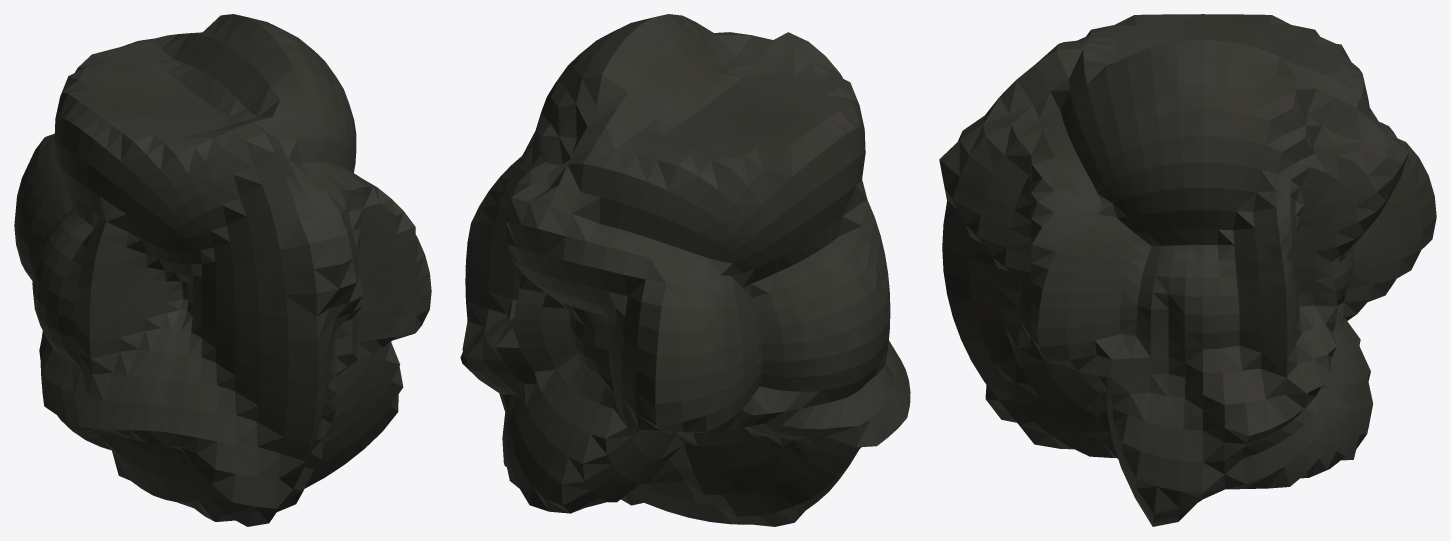
Rendered from rocks-grey_2.fbx.
The picture shows the model from 3 angles, left to right: view 1: azimuth 30°, elevation 25°; view 2: azimuth 150°, elevation 25°; view 3: azimuth 270°, elevation 25°; orthographic projection. The views are drawn at different scales.
Parts seen in each view (by area): view 1: Cube.028; view 2: Cube.028; view 3: Cube.028.
Boxes of the visible parts, <box> form: Cube.028: <box>14,14,431,526</box>; Cube.028: <box>460,14,910,526</box>; Cube.028: <box>939,14,1436,526</box>.
Size of the model in its own units: 133 by 163 by 156.
